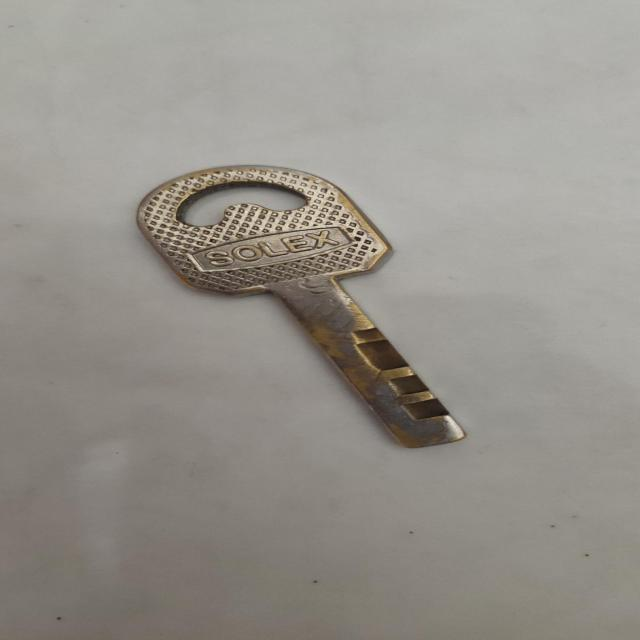kunci_pagar: (124, 155, 498, 459)
